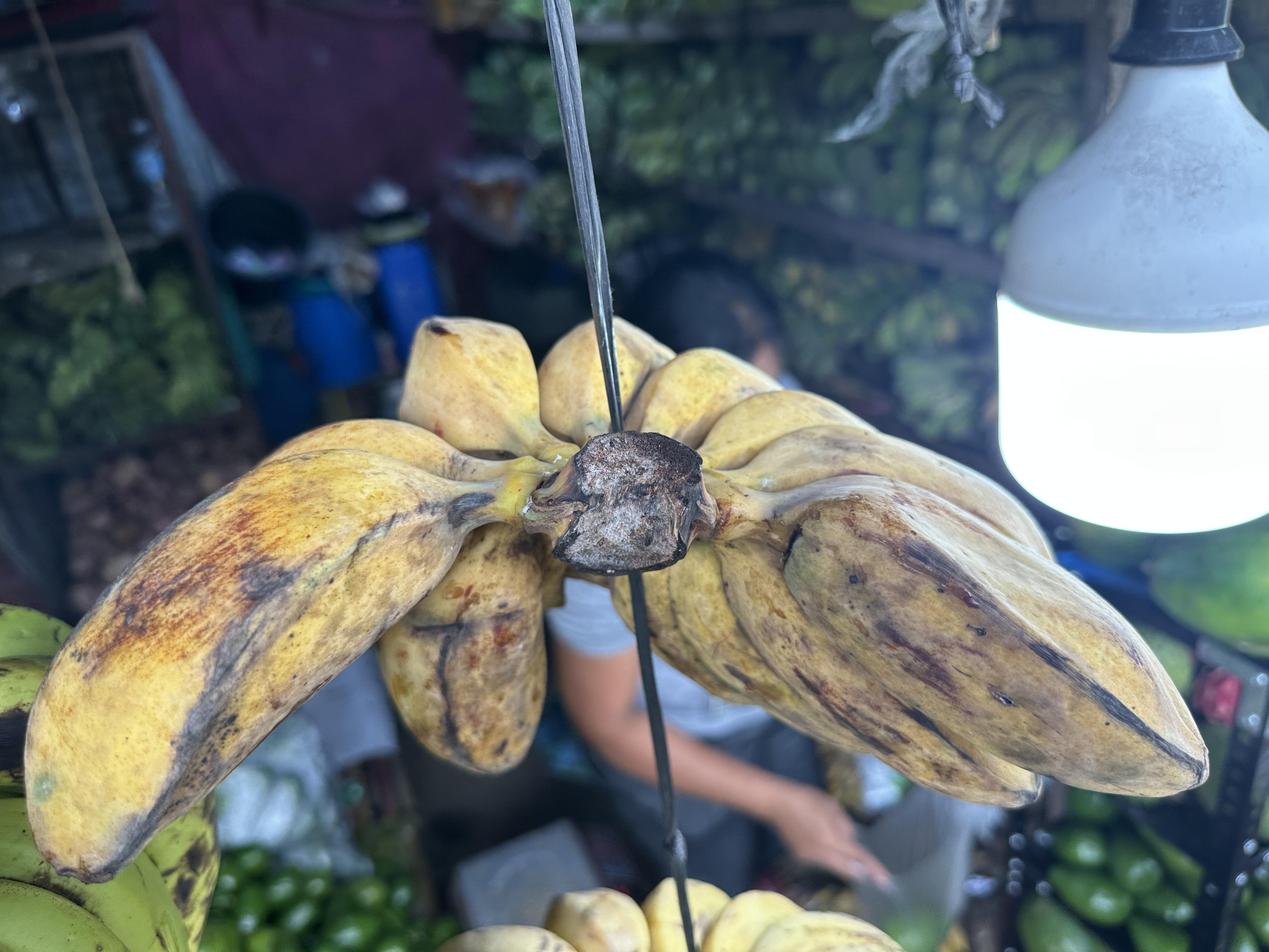ripe: (25, 317, 614, 881), (614, 318, 1209, 807)
